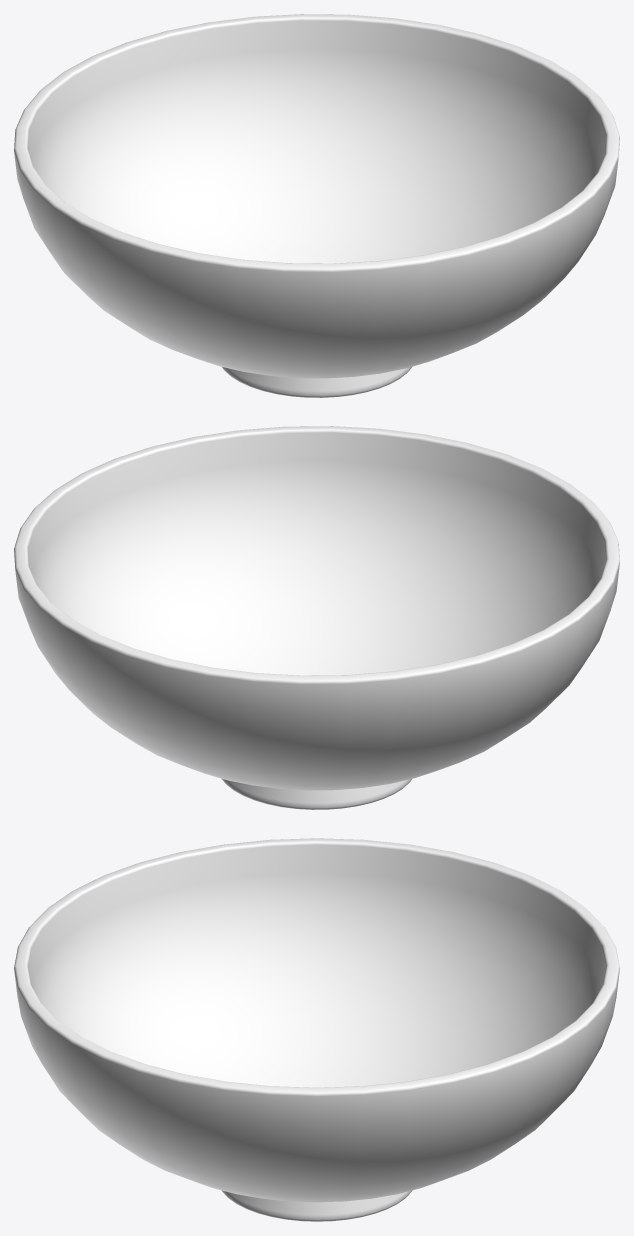
The model's file is Bowl.fbx.
3 views of the same model, one above another, from view 1: azimuth 30°, elevation 25°; view 2: azimuth 150°, elevation 25°; view 3: azimuth 270°, elevation 25° (orthographic).
Parts seen in each view (by area): view 1: Bowl; view 2: Bowl; view 3: Bowl.
Part boxes in pixels (bbox=[...]): Bowl: bbox=[14, 14, 619, 397]; Bowl: bbox=[14, 426, 619, 809]; Bowl: bbox=[14, 838, 619, 1221].
Bounding box in the file's own units: 200 × 82.23 × 200.
1 material, 1 textured.
